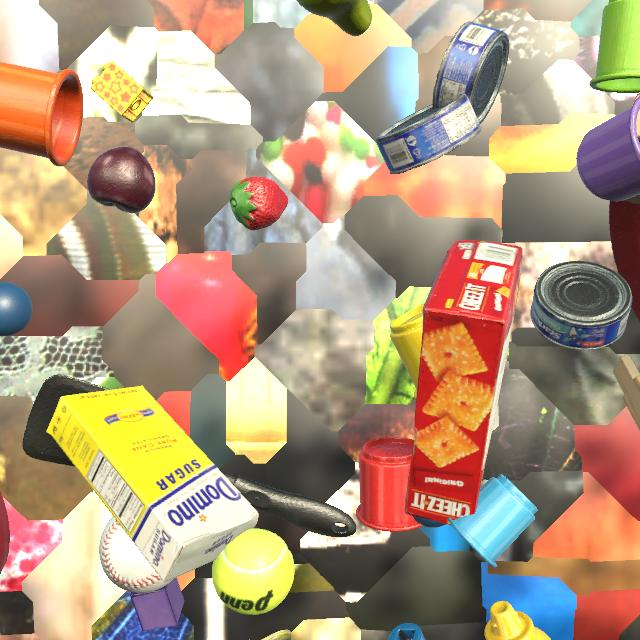ycb_003_cracker_box: (405, 240, 523, 526)
ycb_004_sugar_box: (46, 386, 259, 582)
ycb_006_mustard_bottle: (484, 601, 551, 640)
ycb_007_tuna_fish_can: (530, 261, 633, 350), (376, 93, 482, 174), (432, 21, 509, 124)
ycb_010_potted_meat_can: (261, 630, 292, 640)
ycb_012_strawberry: (229, 177, 288, 230)
ycb_016_pear: (297, 0, 372, 36)
ycb_018_plum: (87, 147, 156, 213)
